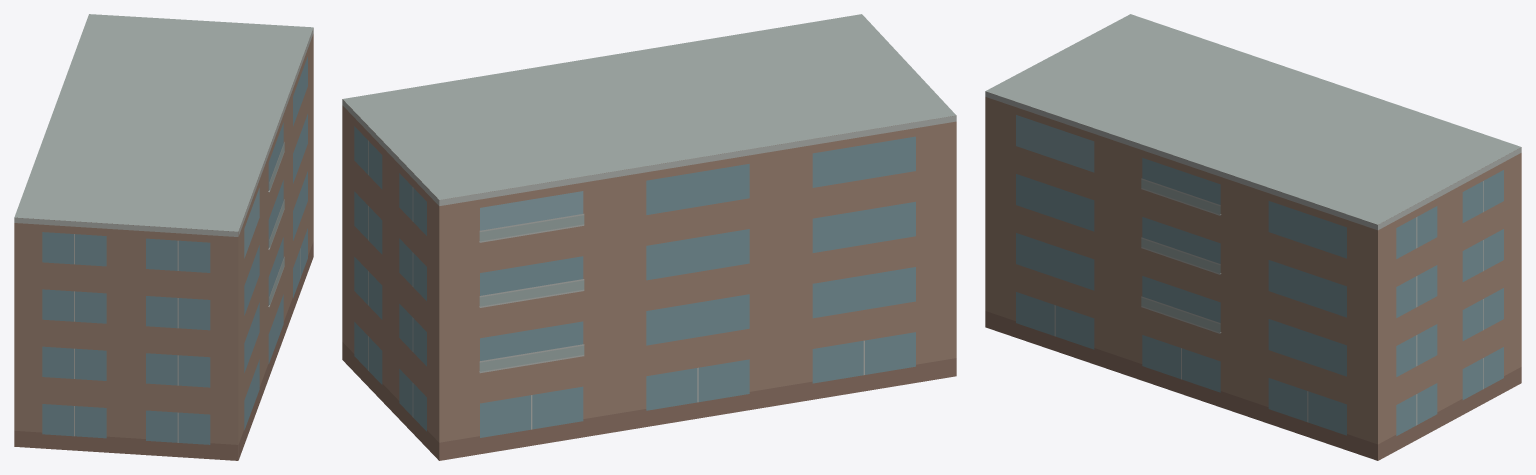
File: survey-upis-32524914.glb
The picture shows the model from 3 angles, left to right: view 1: azimuth 30°, elevation 25°; view 2: azimuth 150°, elevation 25°; view 3: azimuth 270°, elevation 25°; orthographic projection. The views are drawn at different scales.
Parts seen in each view (by area): view 1: survey-upis-32524914.tmp; view 2: survey-upis-32524914.tmp; view 3: survey-upis-32524914.tmp.
Boxes of the visible parts, left/top/right/bottom form: survey-upis-32524914.tmp: left=14, top=14, right=313, bottom=460; survey-upis-32524914.tmp: left=342, top=14, right=956, bottom=460; survey-upis-32524914.tmp: left=985, top=14, right=1521, bottom=460.
Bounding box in the file's own units: 19.93 × 10.4 × 21.43.
